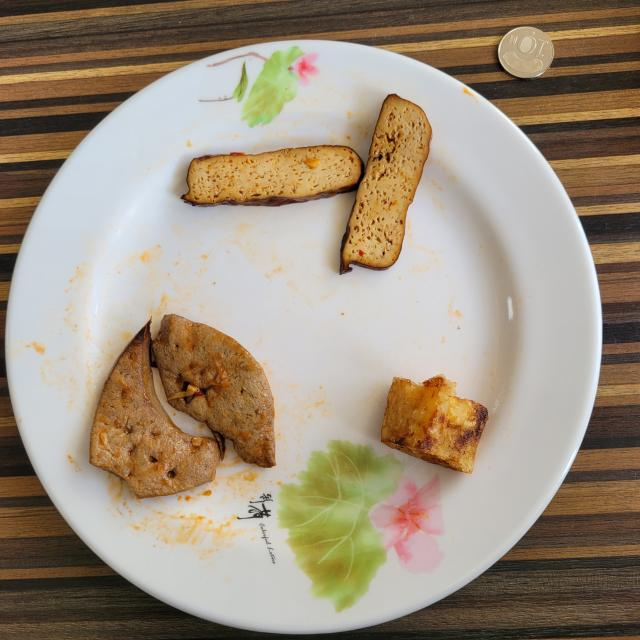coin: (498, 26, 554, 79)
firm tofu: (182, 94, 431, 274)
fried potato: (381, 375, 489, 472)
pig liver: (90, 315, 275, 498)
